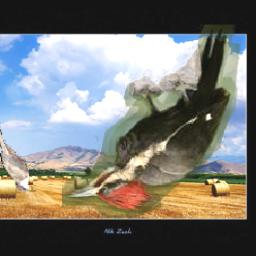Cuckoo: (0, 122, 37, 191)
Woodpecker: (63, 25, 244, 218)
